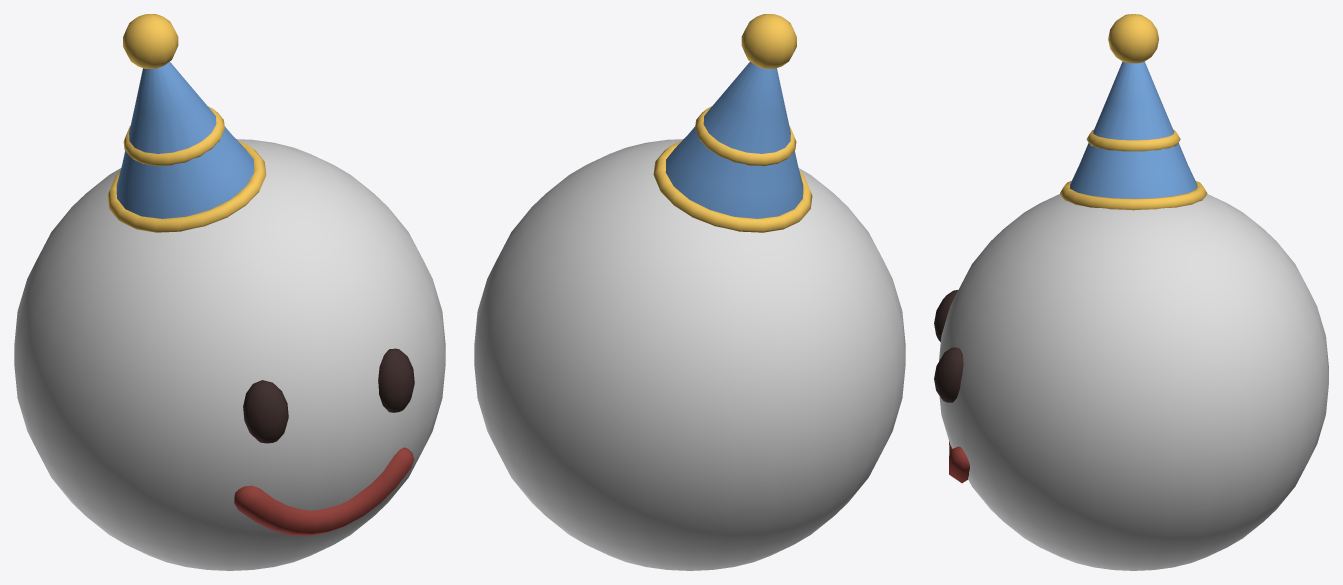
Rendered from face_party_hat.glb.
3 renders of one model, left to right at view 1: azimuth 30°, elevation 25°; view 2: azimuth 150°, elevation 25°; view 3: azimuth 270°, elevation 25°, orthographic. The views are drawn at different scales.
Parts seen in each view (by area): view 1: face_party_hat; view 2: face_party_hat; view 3: face_party_hat.
Boxes of the visible parts, x1,y1,x2,y2 form: face_party_hat: (14,14,445,570); face_party_hat: (474,14,905,570); face_party_hat: (934,14,1328,570).
Bounding box in the file's own units: 0.7089 × 1 × 0.7128.
